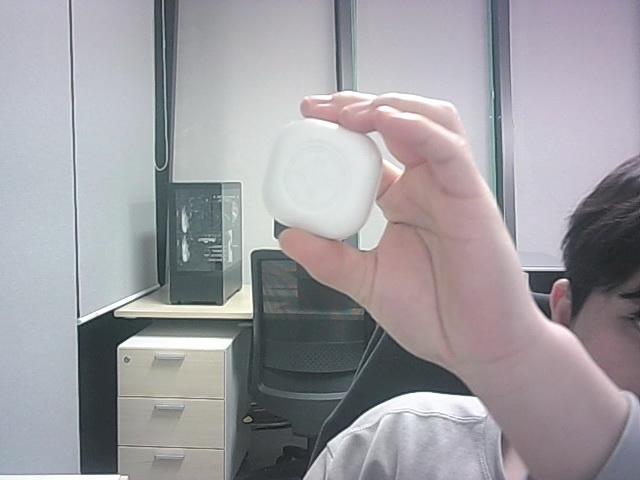case: (263, 118, 381, 239)
